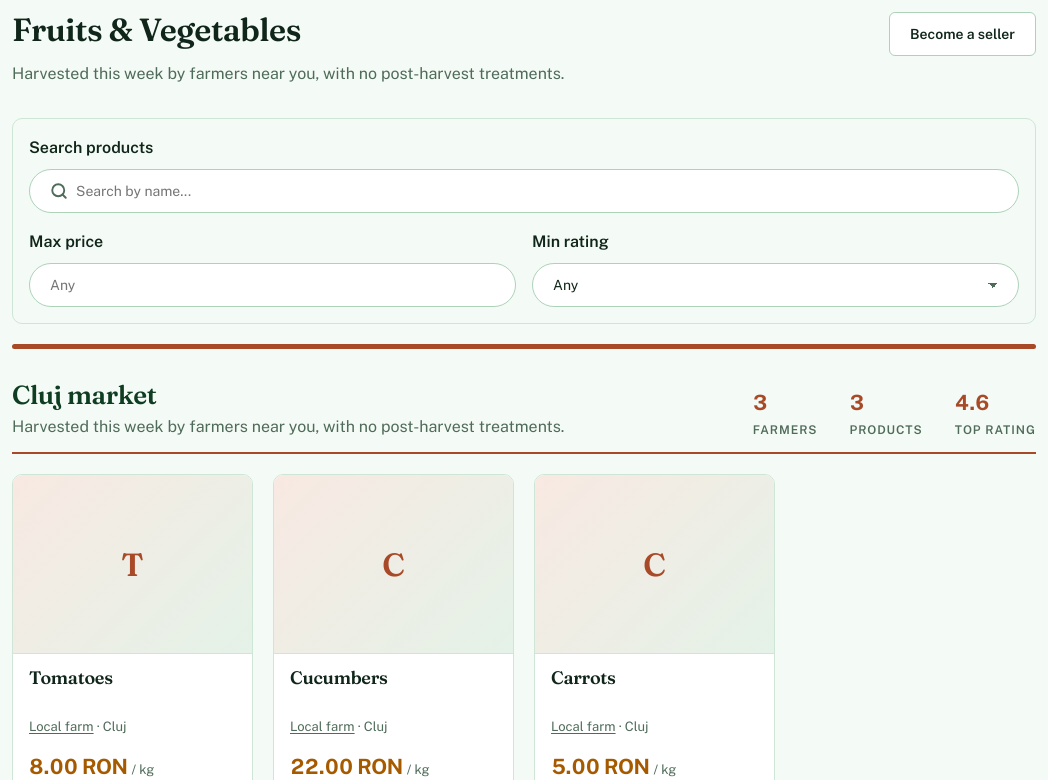
Test: MarketsPage filters › narrows by rating
Expected: the heading "Tomatoes" is shown, x1=29 y1=666 x2=113 y2=689
Select "4.5+ stars" in the dropdown labelled "Min rating" at [776, 285], box x1=532 y1=263 x2=1019 y2=307
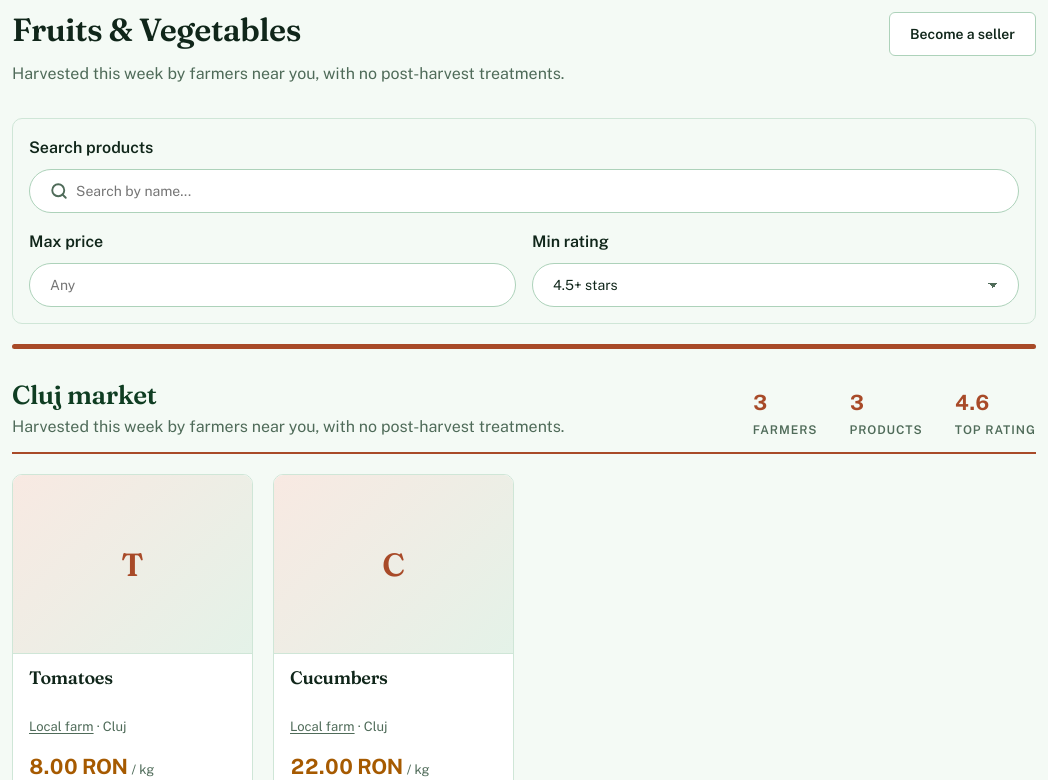
Expected: the heading "Tomatoes" is shown, x1=29 y1=666 x2=113 y2=689
Expected: the heading "Carrots" is gone
